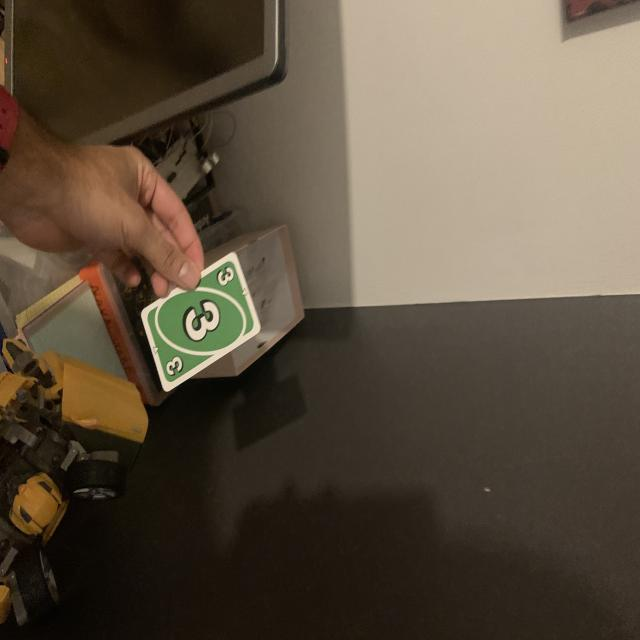lgreen-3: (215, 266, 236, 288)
